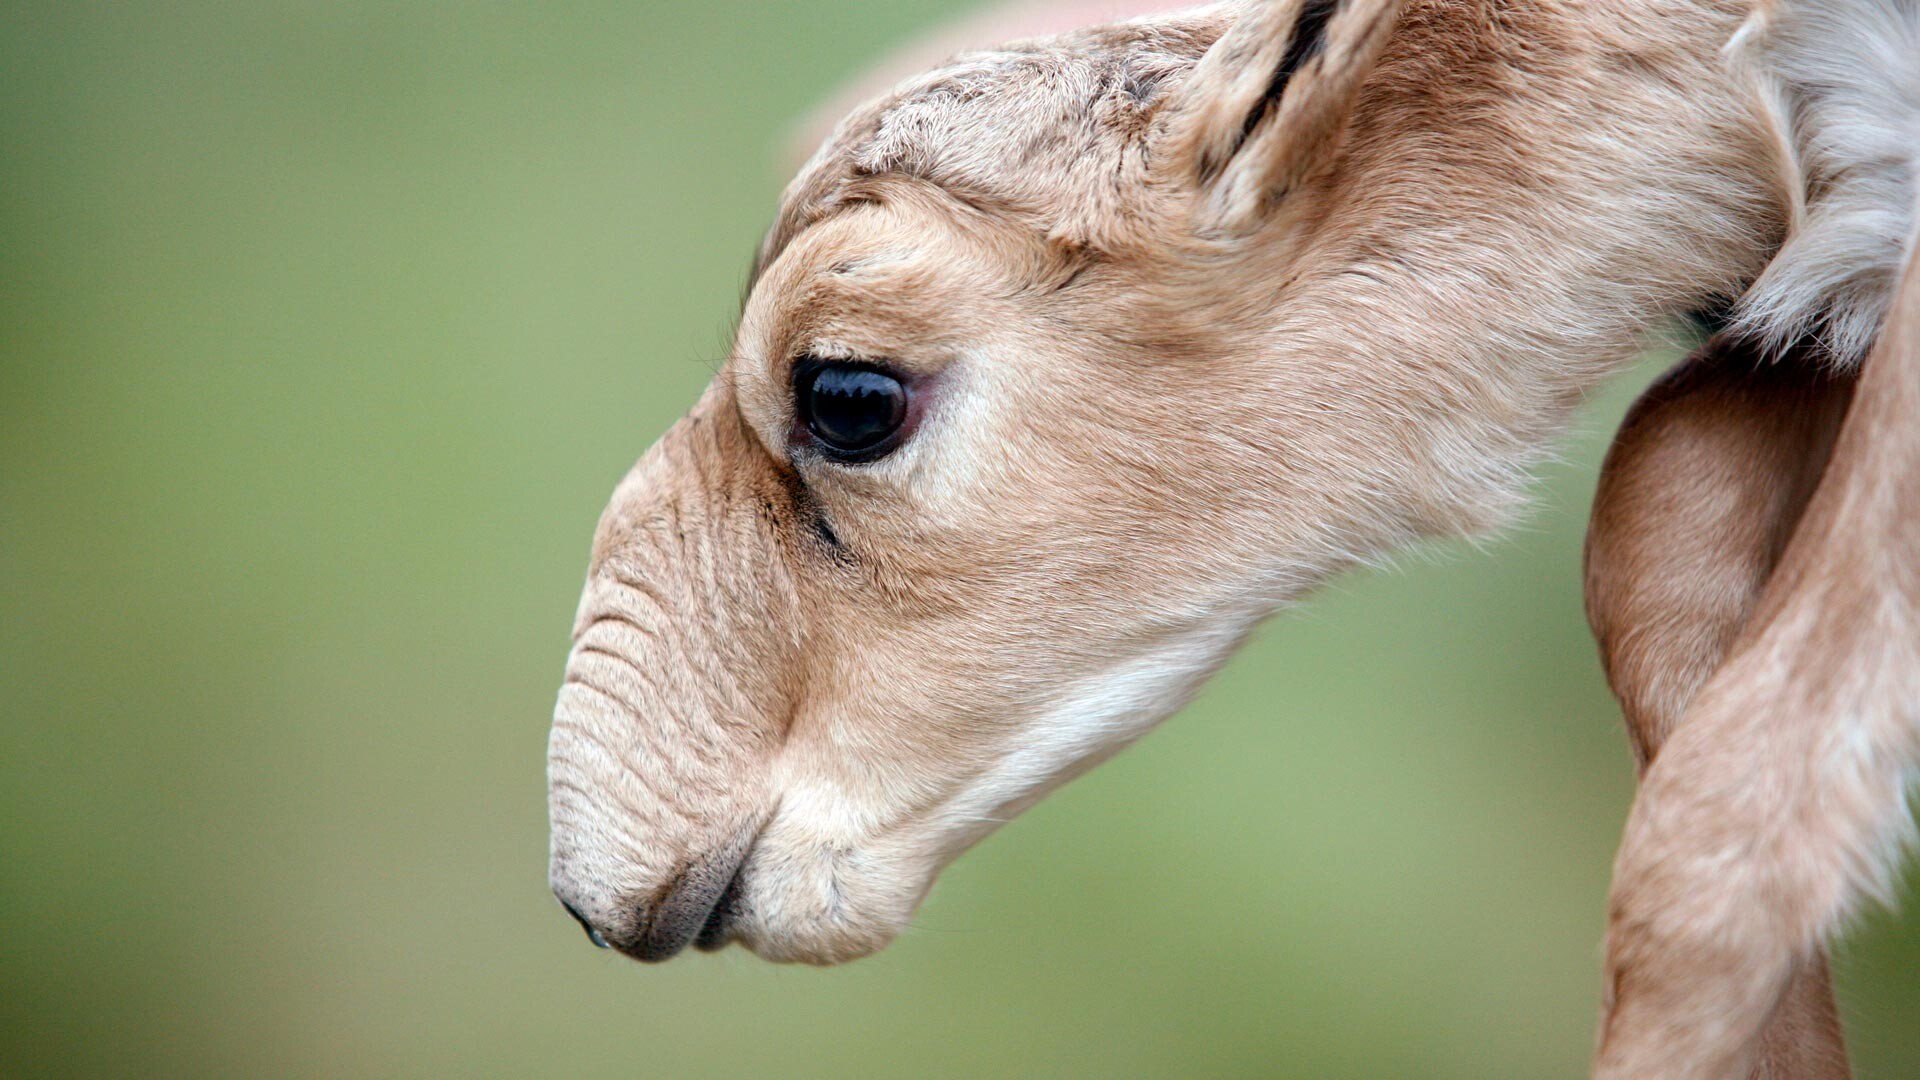saiga: (531, 8, 1920, 1080)
